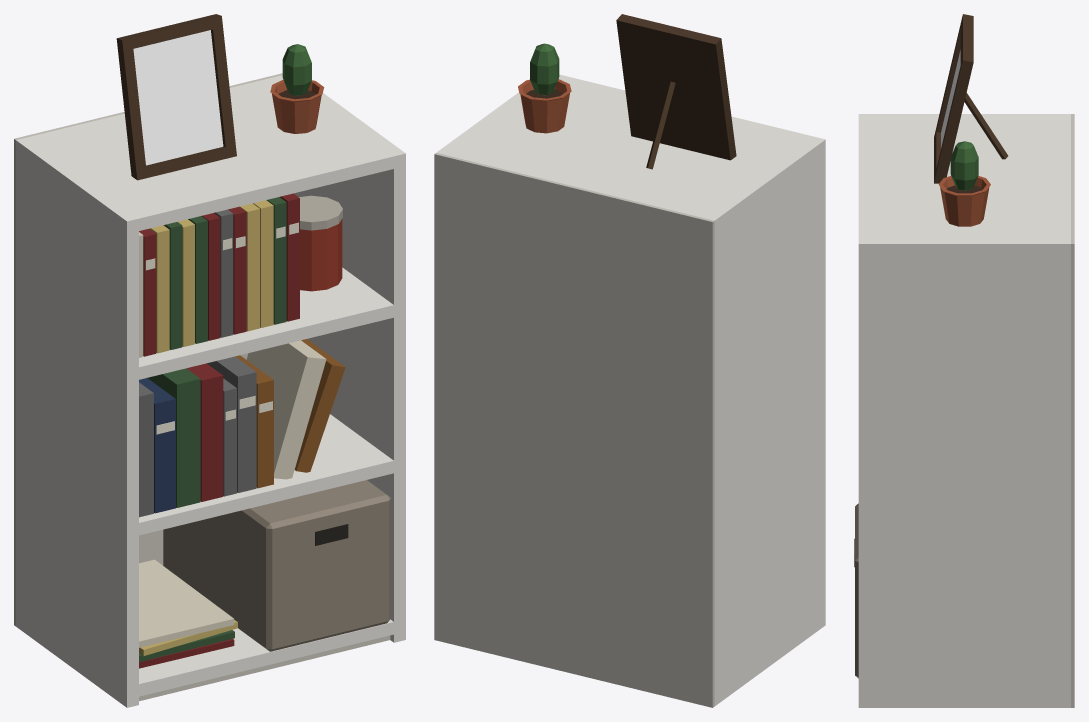
File: color_box.glb
3 renders of one model, left to right at view 1: azimuth 30°, elevation 25°; view 2: azimuth 150°, elevation 25°; view 3: azimuth 270°, elevation 25°, orthographic. The views are drawn at different scales.
Visible parts, largest first — view 1: body; view 2: body; view 3: body.
Boxes of the visible parts, <box> form: body: <box>14,14,405,707</box>; body: <box>434,14,825,707</box>; body: <box>854,14,1074,707</box>.
Bounding box in the file's own units: 0.42 × 0.8858 × 0.3008.
